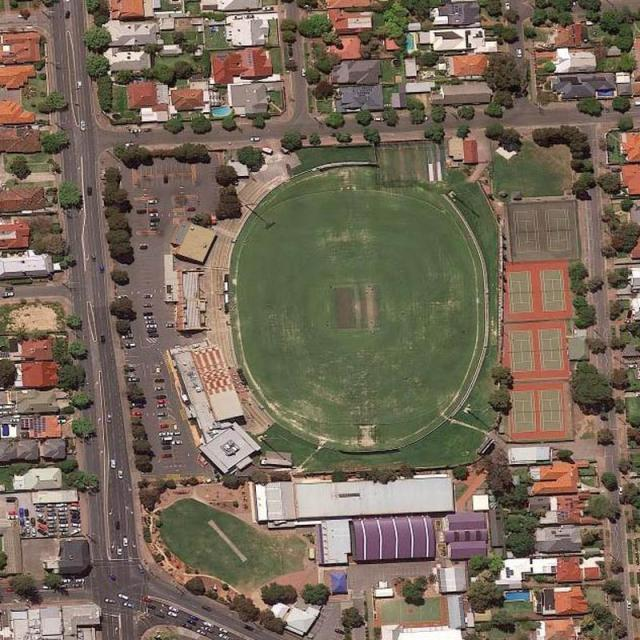vehicle: (262, 146, 274, 156), (218, 632, 230, 640), (202, 625, 214, 632), (181, 623, 192, 630), (202, 604, 211, 612), (157, 399, 169, 405), (2, 292, 14, 298), (244, 624, 254, 631), (142, 595, 152, 602), (70, 529, 81, 535), (70, 522, 81, 528), (196, 629, 206, 635), (168, 606, 178, 612), (167, 610, 177, 616), (130, 129, 142, 134), (87, 186, 93, 196), (189, 614, 197, 621), (146, 602, 154, 609), (38, 529, 46, 536), (47, 511, 58, 516), (218, 627, 227, 633), (123, 537, 129, 546), (133, 411, 142, 417), (80, 122, 86, 131), (629, 363, 638, 369), (26, 526, 31, 536), (250, 137, 260, 142), (69, 506, 81, 510), (38, 524, 46, 530), (38, 518, 46, 524), (24, 509, 30, 517), (20, 518, 26, 526), (161, 437, 173, 441), (158, 432, 170, 436), (122, 334, 134, 338), (102, 334, 106, 346), (202, 621, 211, 626), (118, 593, 127, 598), (19, 509, 24, 518), (186, 206, 195, 211), (139, 245, 148, 250), (122, 602, 133, 606), (42, 586, 53, 590), (70, 518, 81, 522), (58, 528, 69, 532), (58, 516, 69, 520), (47, 516, 58, 520), (7, 516, 18, 520), (162, 454, 173, 458), (172, 441, 183, 445), (170, 432, 181, 436), (154, 386, 165, 390), (157, 413, 168, 417), (126, 342, 137, 346), (146, 329, 157, 333), (146, 325, 157, 329), (142, 294, 153, 298), (150, 218, 161, 222), (262, 7, 273, 11), (135, 210, 146, 214), (154, 378, 165, 382), (187, 618, 194, 624), (109, 574, 116, 580), (162, 176, 168, 183), (104, 598, 114, 602), (118, 470, 123, 478), (70, 510, 80, 514), (35, 509, 45, 513), (162, 446, 172, 450), (129, 378, 139, 382), (143, 313, 153, 317), (143, 303, 153, 307), (100, 265, 105, 273), (373, 116, 383, 120), (244, 15, 254, 19), (618, 486, 623, 494), (65, 10, 70, 18), (118, 546, 122, 555), (76, 578, 85, 582), (73, 583, 82, 587), (56, 503, 68, 506), (32, 528, 36, 537), (10, 418, 19, 422), (57, 415, 66, 419), (133, 403, 142, 407), (157, 395, 166, 399), (149, 334, 158, 338), (166, 323, 175, 327), (149, 208, 158, 212), (148, 199, 157, 203), (233, 16, 242, 20), (627, 601, 631, 610), (517, 50, 522, 57), (118, 295, 129, 298), (111, 459, 115, 467), (115, 522, 119, 530), (72, 514, 80, 518), (72, 503, 80, 507), (60, 520, 68, 524), (50, 528, 58, 532), (49, 520, 57, 524), (31, 518, 35, 526), (26, 518, 30, 526), (9, 510, 17, 514), (161, 425, 169, 429), (107, 414, 111, 422), (92, 254, 96, 262), (150, 227, 158, 231), (150, 222, 158, 226), (150, 214, 158, 218), (302, 68, 306, 76), (58, 511, 68, 514), (58, 507, 68, 510), (47, 507, 57, 510), (38, 514, 45, 518), (78, 82, 82, 89), (506, 3, 510, 10), (60, 532, 69, 535), (49, 532, 58, 535), (62, 579, 70, 582), (60, 586, 68, 589), (46, 503, 54, 506), (58, 419, 66, 422), (174, 424, 178, 430), (143, 317, 154, 319), (58, 524, 68, 526), (35, 505, 45, 507), (157, 405, 167, 407), (146, 321, 156, 323), (49, 524, 57, 526)
